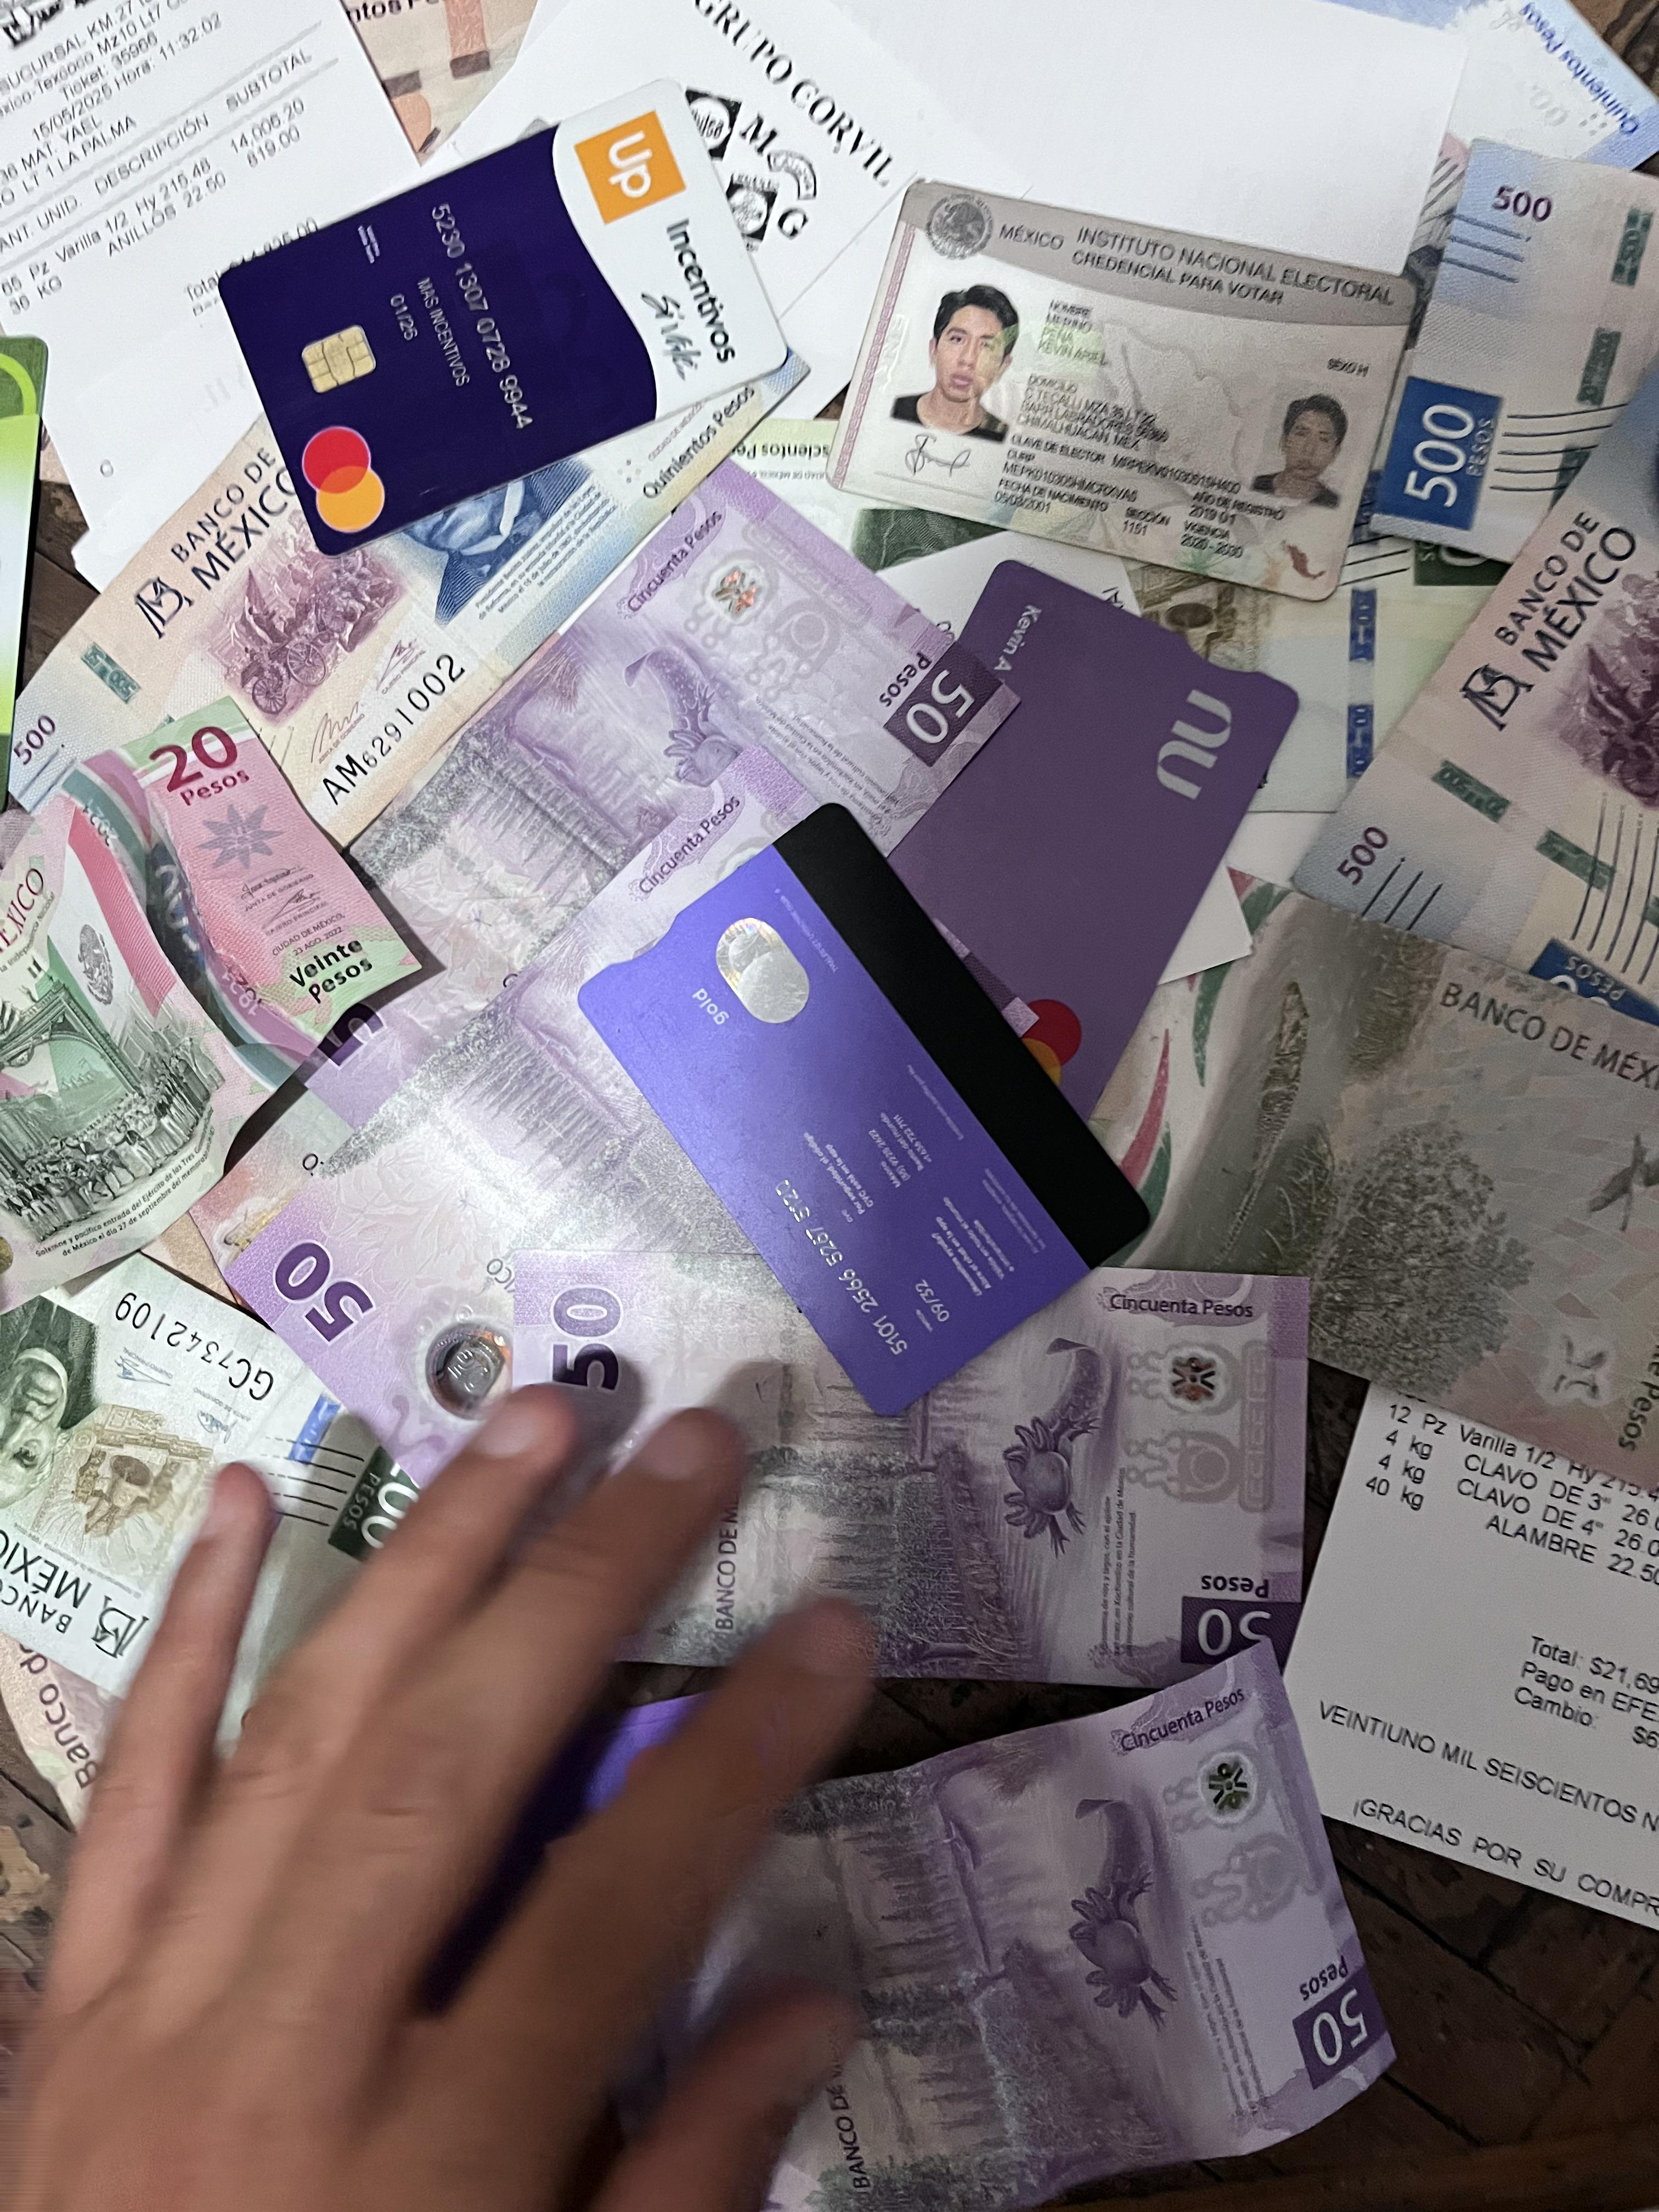20: (1112, 864, 1659, 1510), (0, 644, 403, 1341)
200: (0, 1359, 488, 1757)
50: (491, 1202, 1424, 1750), (615, 1597, 1387, 2212), (350, 434, 1021, 1043), (234, 921, 856, 1522)
500 nuevo: (0, 247, 861, 850), (1328, 282, 1659, 1066), (1356, 101, 1659, 557)
